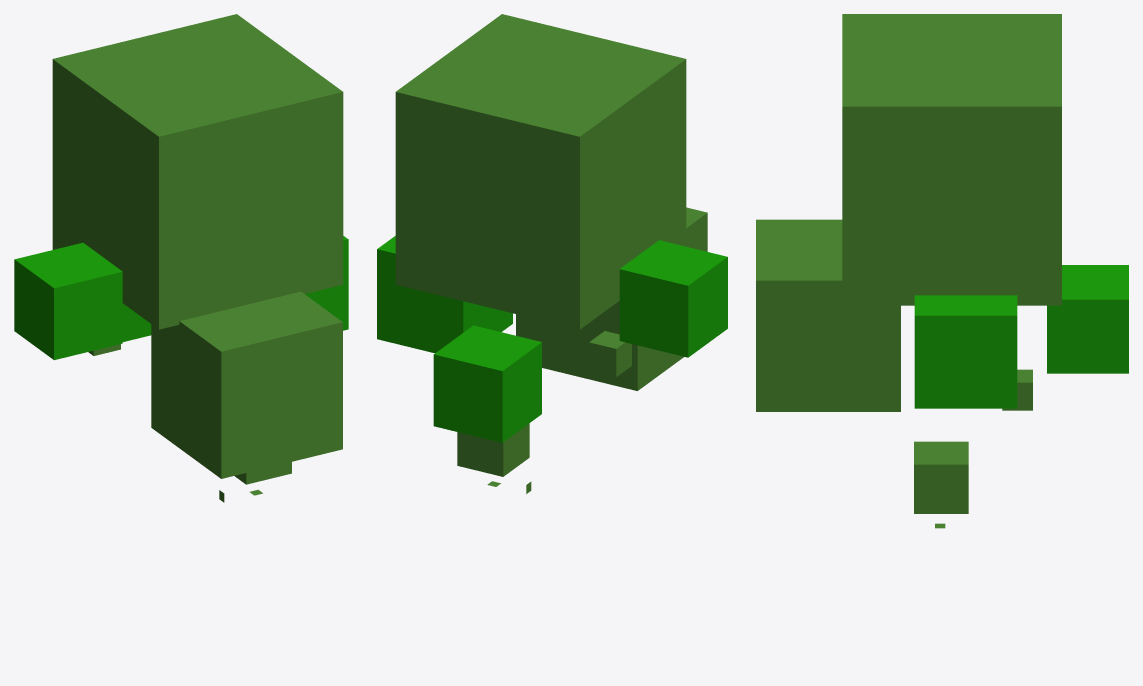
Rendered from Green_Tree-WithTexture.fbx.
3 renders of one model, left to right at view 1: azimuth 30°, elevation 25°; view 2: azimuth 150°, elevation 25°; view 3: azimuth 270°, elevation 25°, orthographic. The views are drawn at different scales.
Visible parts, largest first — view 1: Tree_3; view 2: Tree_3; view 3: Tree_3.
Boxes of the visible parts, left/top/right/bottom form: Tree_3: left=14, top=14, right=348, bottom=502; Tree_3: left=377, top=14, right=727, bottom=493; Tree_3: left=756, top=14, right=1128, bottom=528.
Bounding box in the file's own units: 564 × 1057 × 594.
Materials: 1 (1 with a texture image).
